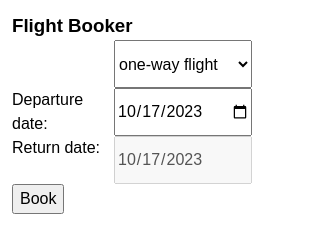
Scenario: FlightBooker › should enable return date input
Select "return flight" in the dropdown. click: (183, 64)
box: [114,40,252,88]
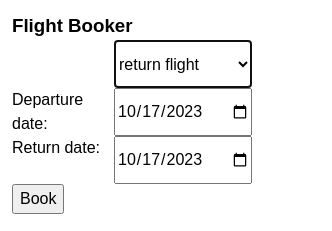
Expected: the date field labelled "Departure date:" is enabled, [114,88,252,136]
Now the date field labelled "Return date:" is enabled, box [114,136,252,184]
